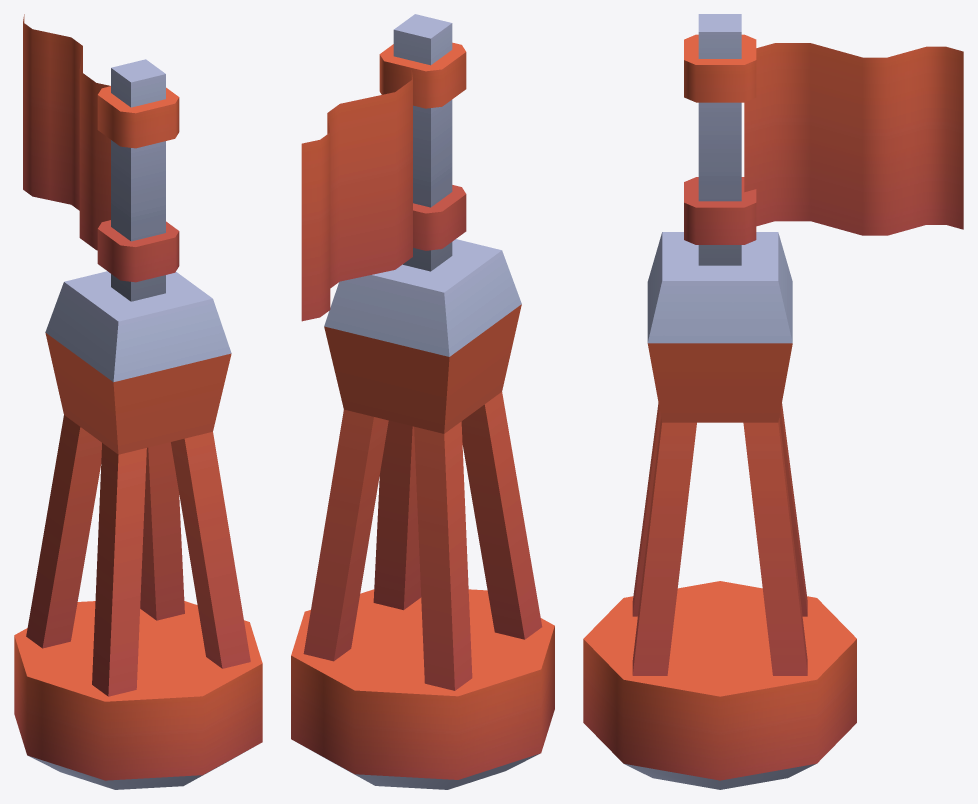
File: k-watercraft-buoy-flag.glb
The picture shows the model from 3 angles, left to right: view 1: azimuth 30°, elevation 25°; view 2: azimuth 150°, elevation 25°; view 3: azimuth 270°, elevation 25°; orthographic projection. The views are drawn at different scales.
Visible parts, largest first — view 1: buoy-flag; view 2: buoy-flag; view 3: buoy-flag.
Part boxes in pixels (bbox=[...]): buoy-flag: bbox=[14, 14, 262, 789]; buoy-flag: bbox=[291, 14, 554, 789]; buoy-flag: bbox=[583, 14, 963, 789].
Size of the model in its own units: 0.9283 by 2.72 by 1.29.
1 material, 1 textured.
